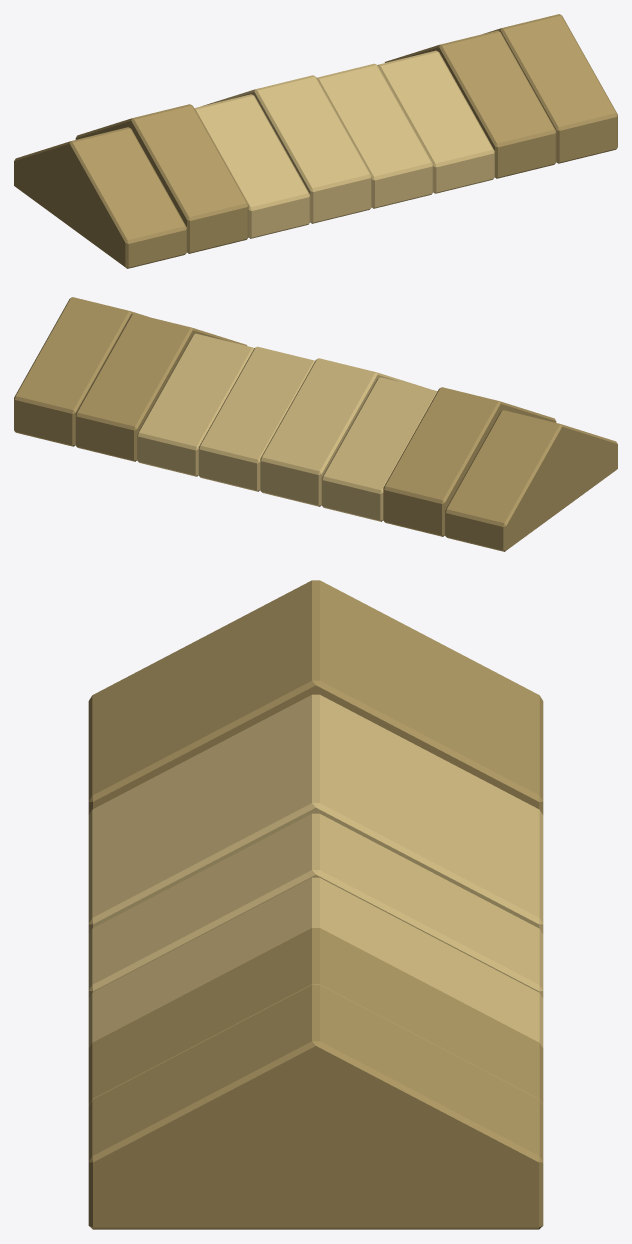
File: SM_Thatch_Ridge_30.fbx
3 views of the same model, one above another, from view 1: azimuth 30°, elevation 25°; view 2: azimuth 150°, elevation 25°; view 3: azimuth 270°, elevation 25° (orthographic). The views are drawn at different scales.
Parts seen in each view (by area): view 1: SM_Thatch_Ridge_30; view 2: SM_Thatch_Ridge_30; view 3: SM_Thatch_Ridge_30.
Part boxes in pixels (x1,y1,x2,y2): SM_Thatch_Ridge_30: [14, 14, 617, 268]; SM_Thatch_Ridge_30: [14, 297, 617, 551]; SM_Thatch_Ridge_30: [88, 580, 543, 1229].
Bounding box in the file's own units: 2 × 0.3658 × 0.8.
